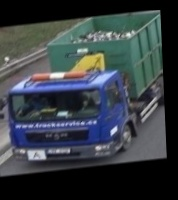truck: (0, 11, 167, 172)
